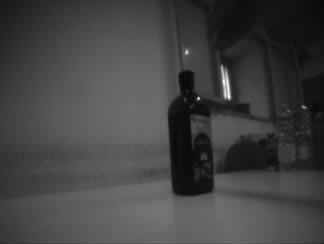Bottle: (167, 70, 214, 195), (274, 103, 297, 170), (296, 103, 312, 171)
